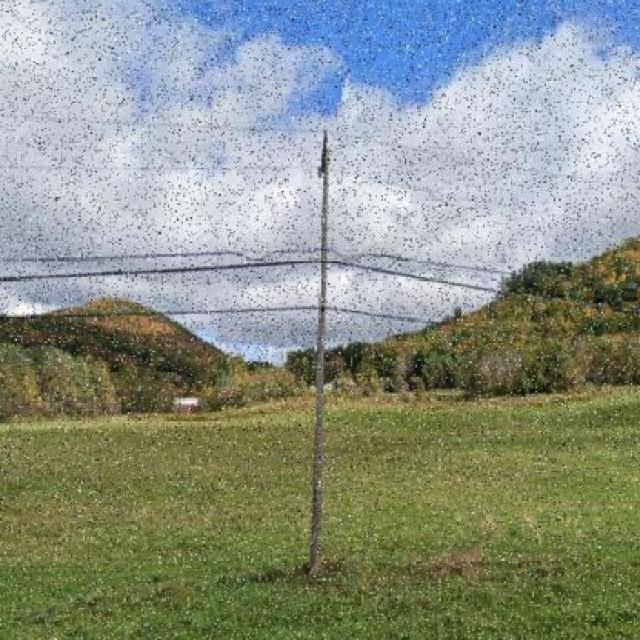pole: (286, 102, 359, 580)
